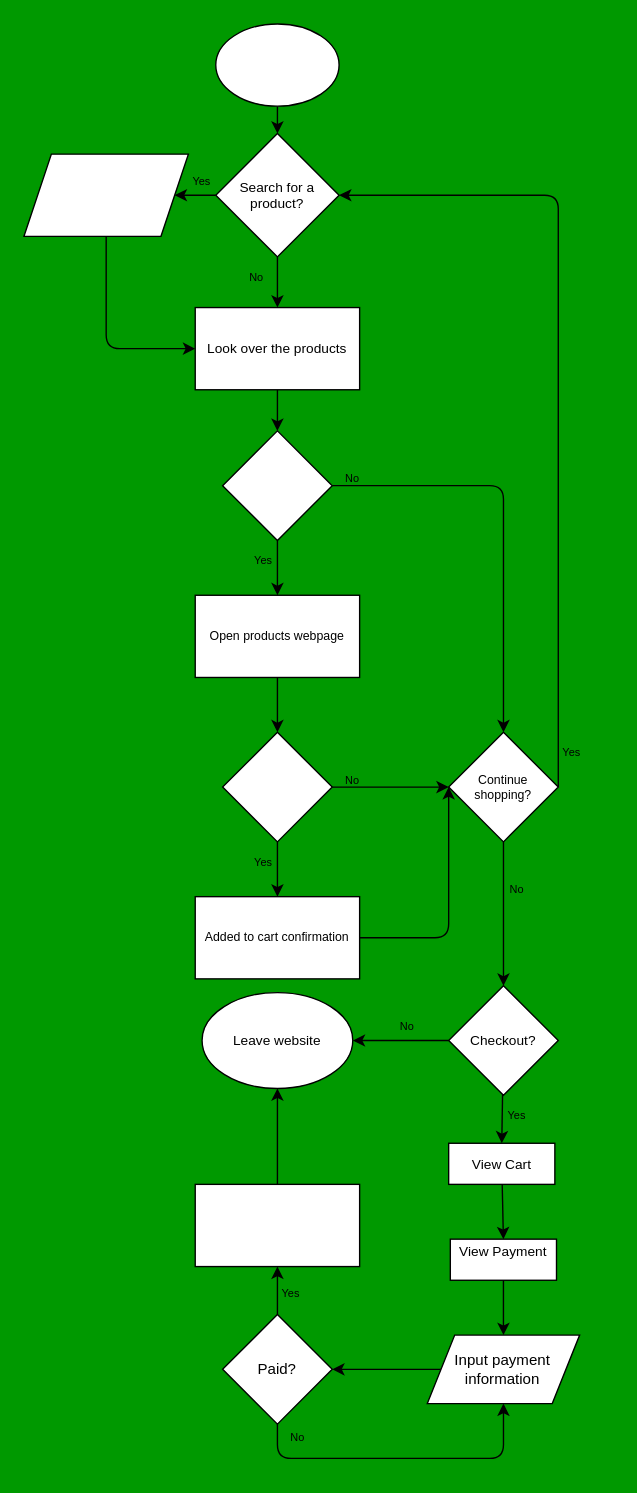
Image size: 637x1493. Some labels were removed from this diagram. Here are the shapes that lost their labels. From the top down, the centre of each, then its label:
At (276,64): "User enters website".
At (105,194): "Provide input to search".
At (276,484): "View a specific product?".
At (276,786): "Add to cart?".
At (277,1225): "Order confirmation screen and email sent".
